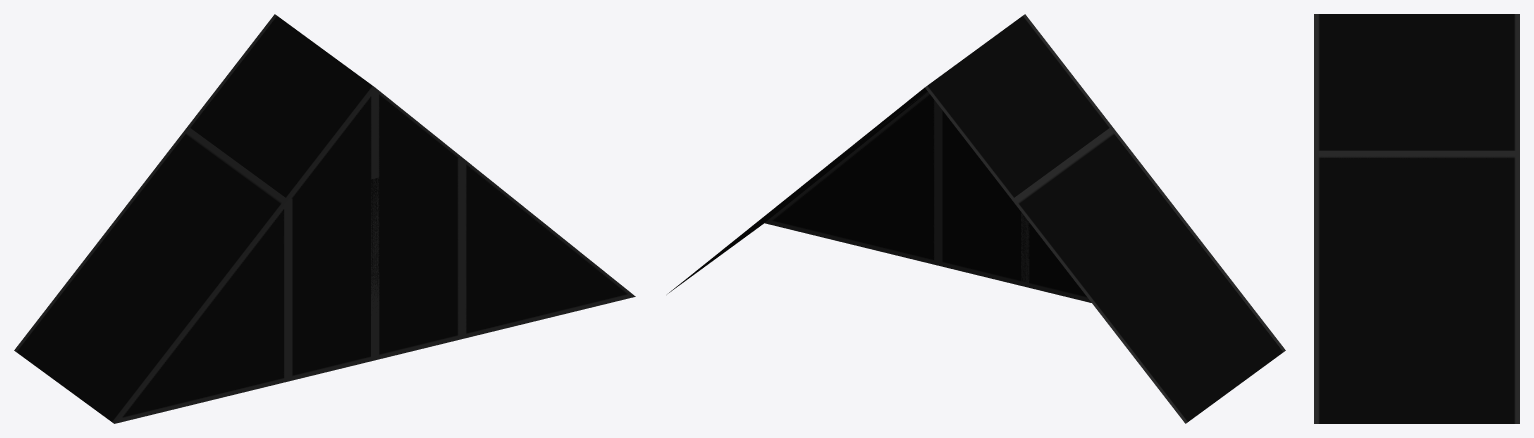
File: dc_metro_roof_h2.obj
3 renders of one model, left to right at view 1: azimuth 30°, elevation 25°; view 2: azimuth 150°, elevation 25°; view 3: azimuth 270°, elevation 25°, orthographic. The views are drawn at different scales.
Visible parts, largest first — view 1: part1e, part2, part2e, part1; view 2: part2, part1, part2e, part1e; view 3: part2, part1.
Part boxes in pixels (bbox=[...]): part1e: bbox=[288, 87, 461, 381]; part2: bbox=[14, 126, 287, 423]; part2e: bbox=[114, 157, 635, 423]; part1: bbox=[188, 14, 374, 199]; part2: bbox=[668, 91, 1285, 423]; part1: bbox=[840, 14, 1111, 199]; part2e: bbox=[765, 92, 938, 265]; part1e: bbox=[938, 105, 1091, 302]; part2: bbox=[1314, 150, 1519, 423]; part1: bbox=[1314, 14, 1519, 150].
Size of the model in its own units: 3 by 1.5 by 1.
2 materials, 2 textured.
